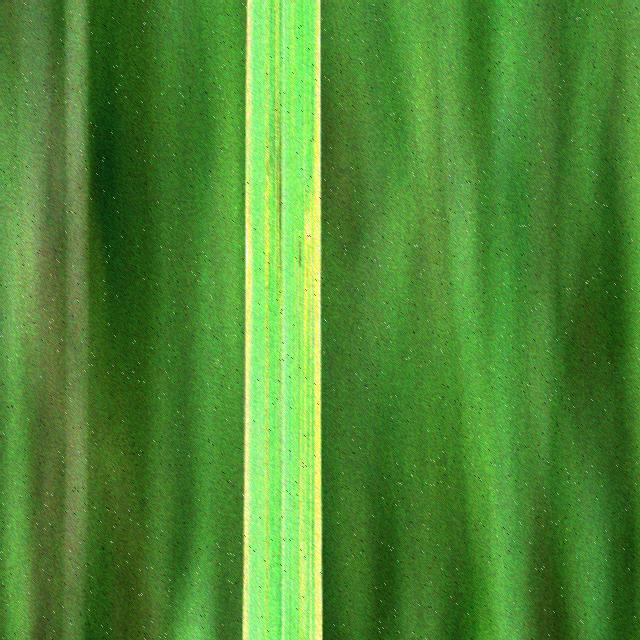BLS: (313, 0, 321, 640), (243, 0, 251, 640), (274, 0, 282, 301), (265, 52, 269, 640), (304, 186, 307, 308), (309, 183, 312, 305), (292, 0, 295, 109)
